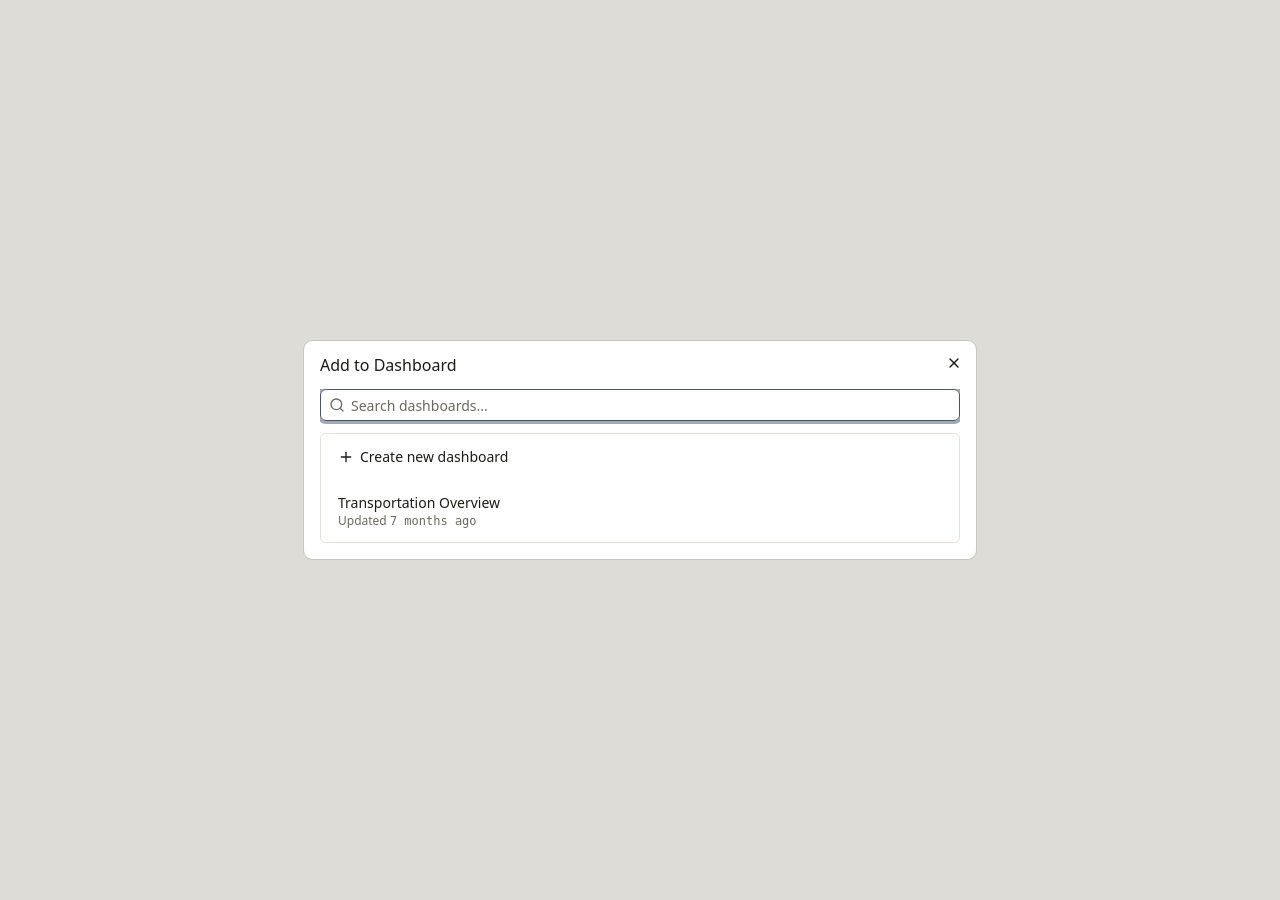
AddToDashboardDialog › clears the create form as part of dismissing the dialog
This screenshot has width=1280, height=900.
Click the button "Create new dashboard" at (434, 456), box [321,434,959,480]
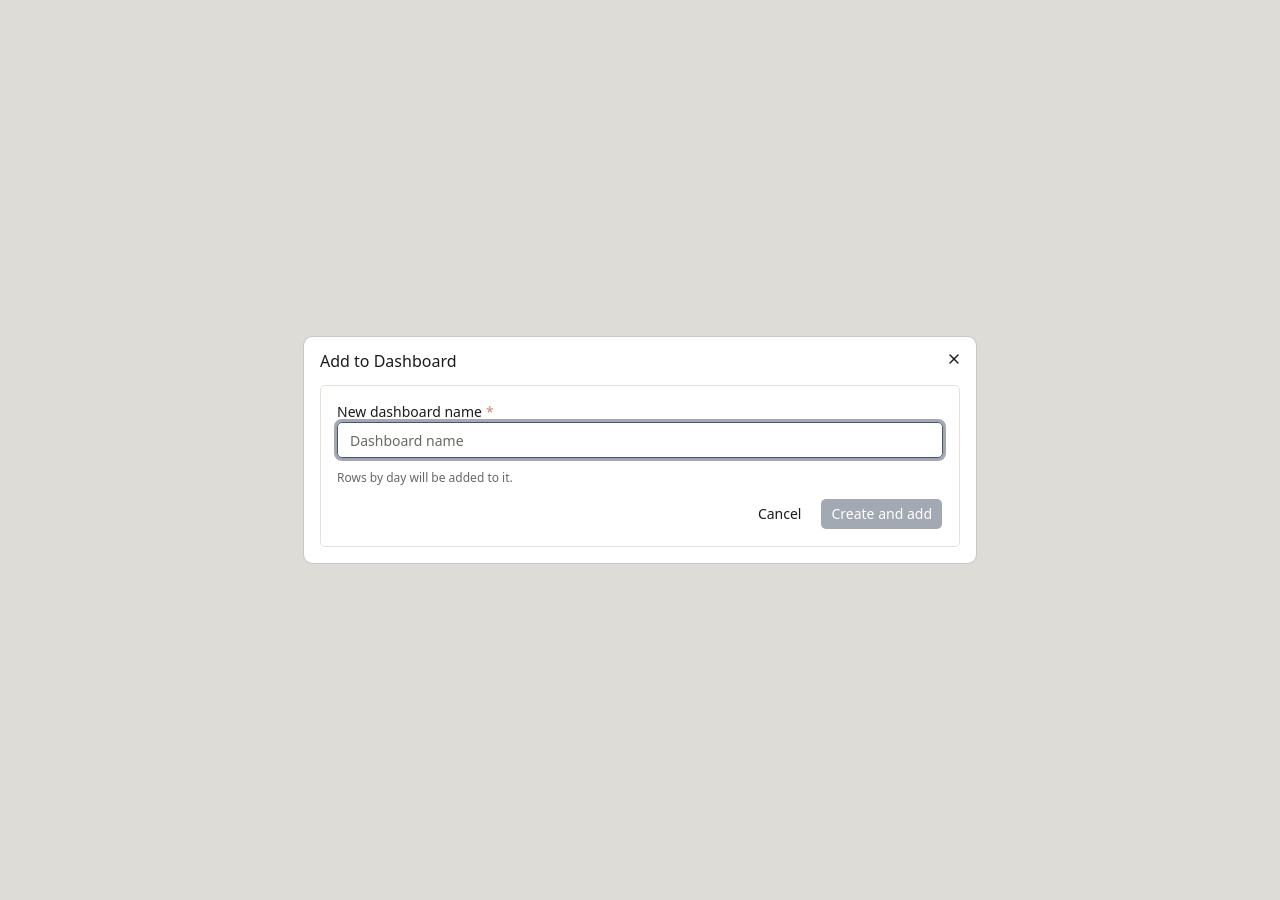
Type "Q3 metrics" into the field labelled "New dashboard name*" at (640, 440), box [337,422,943,458]
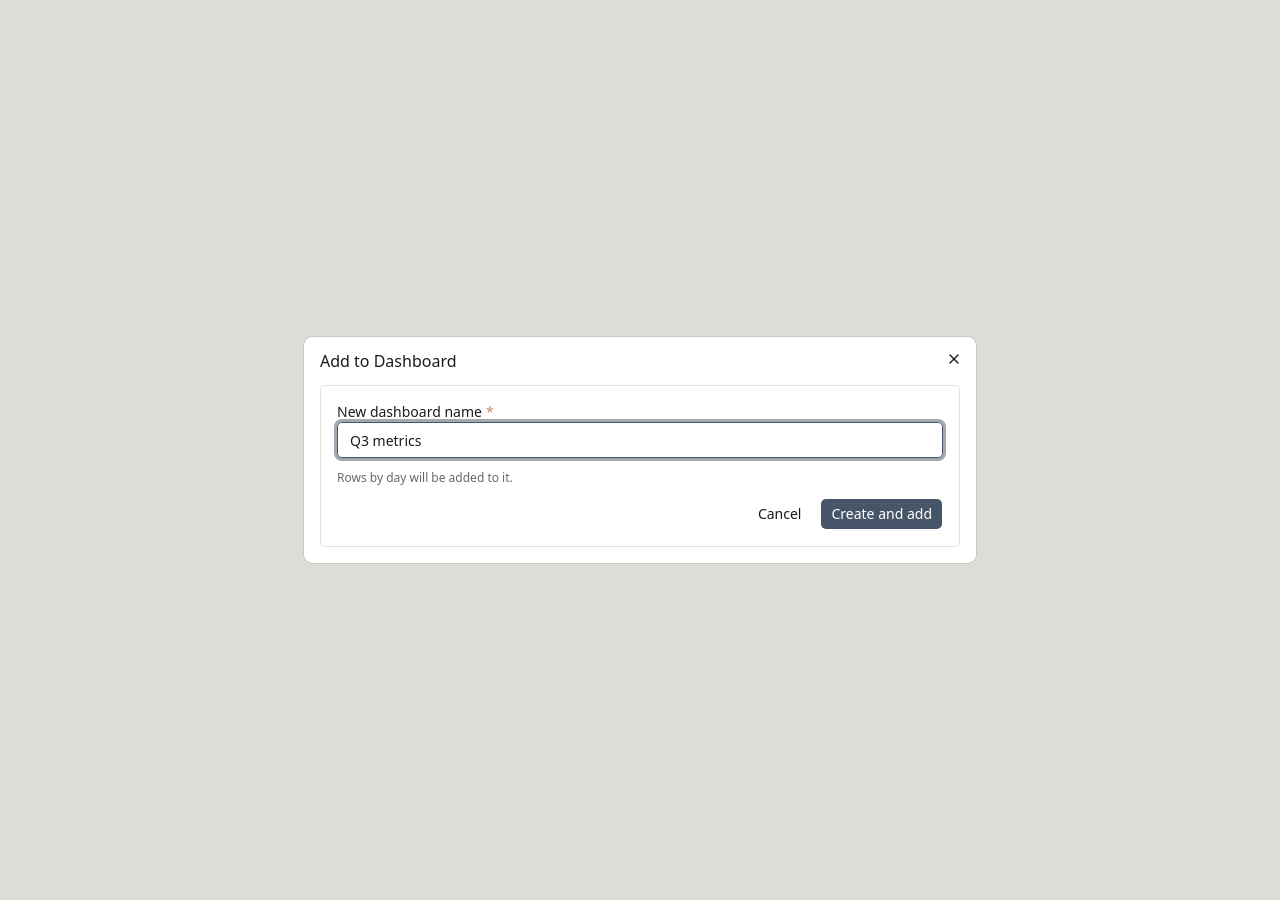
Click the button named "Close" at (954, 359), box [940,345,968,373]
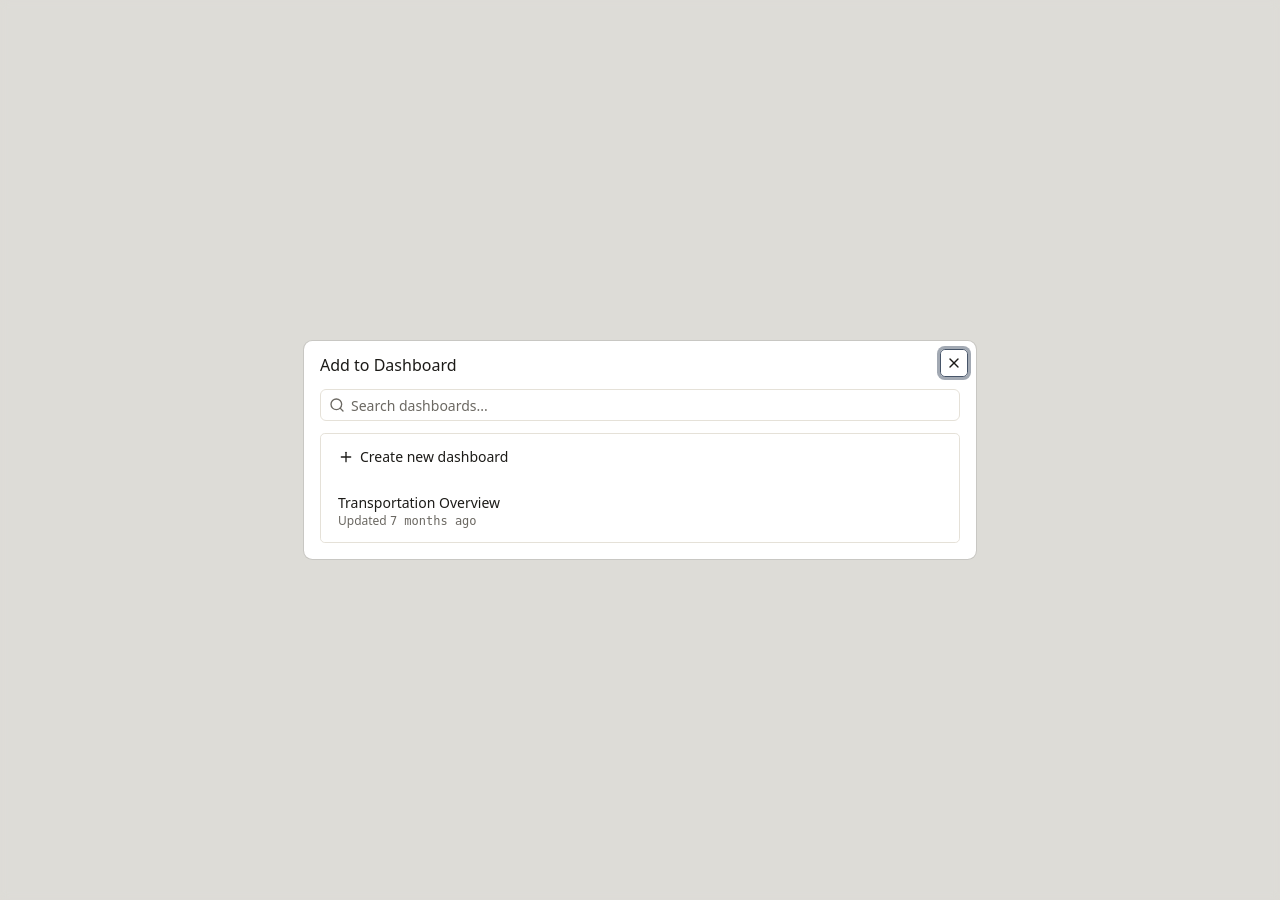
Now the label labelled "New dashboard name" is gone
Now the field with placeholder "Search dashboards..." is shown, box [345,389,959,423]
